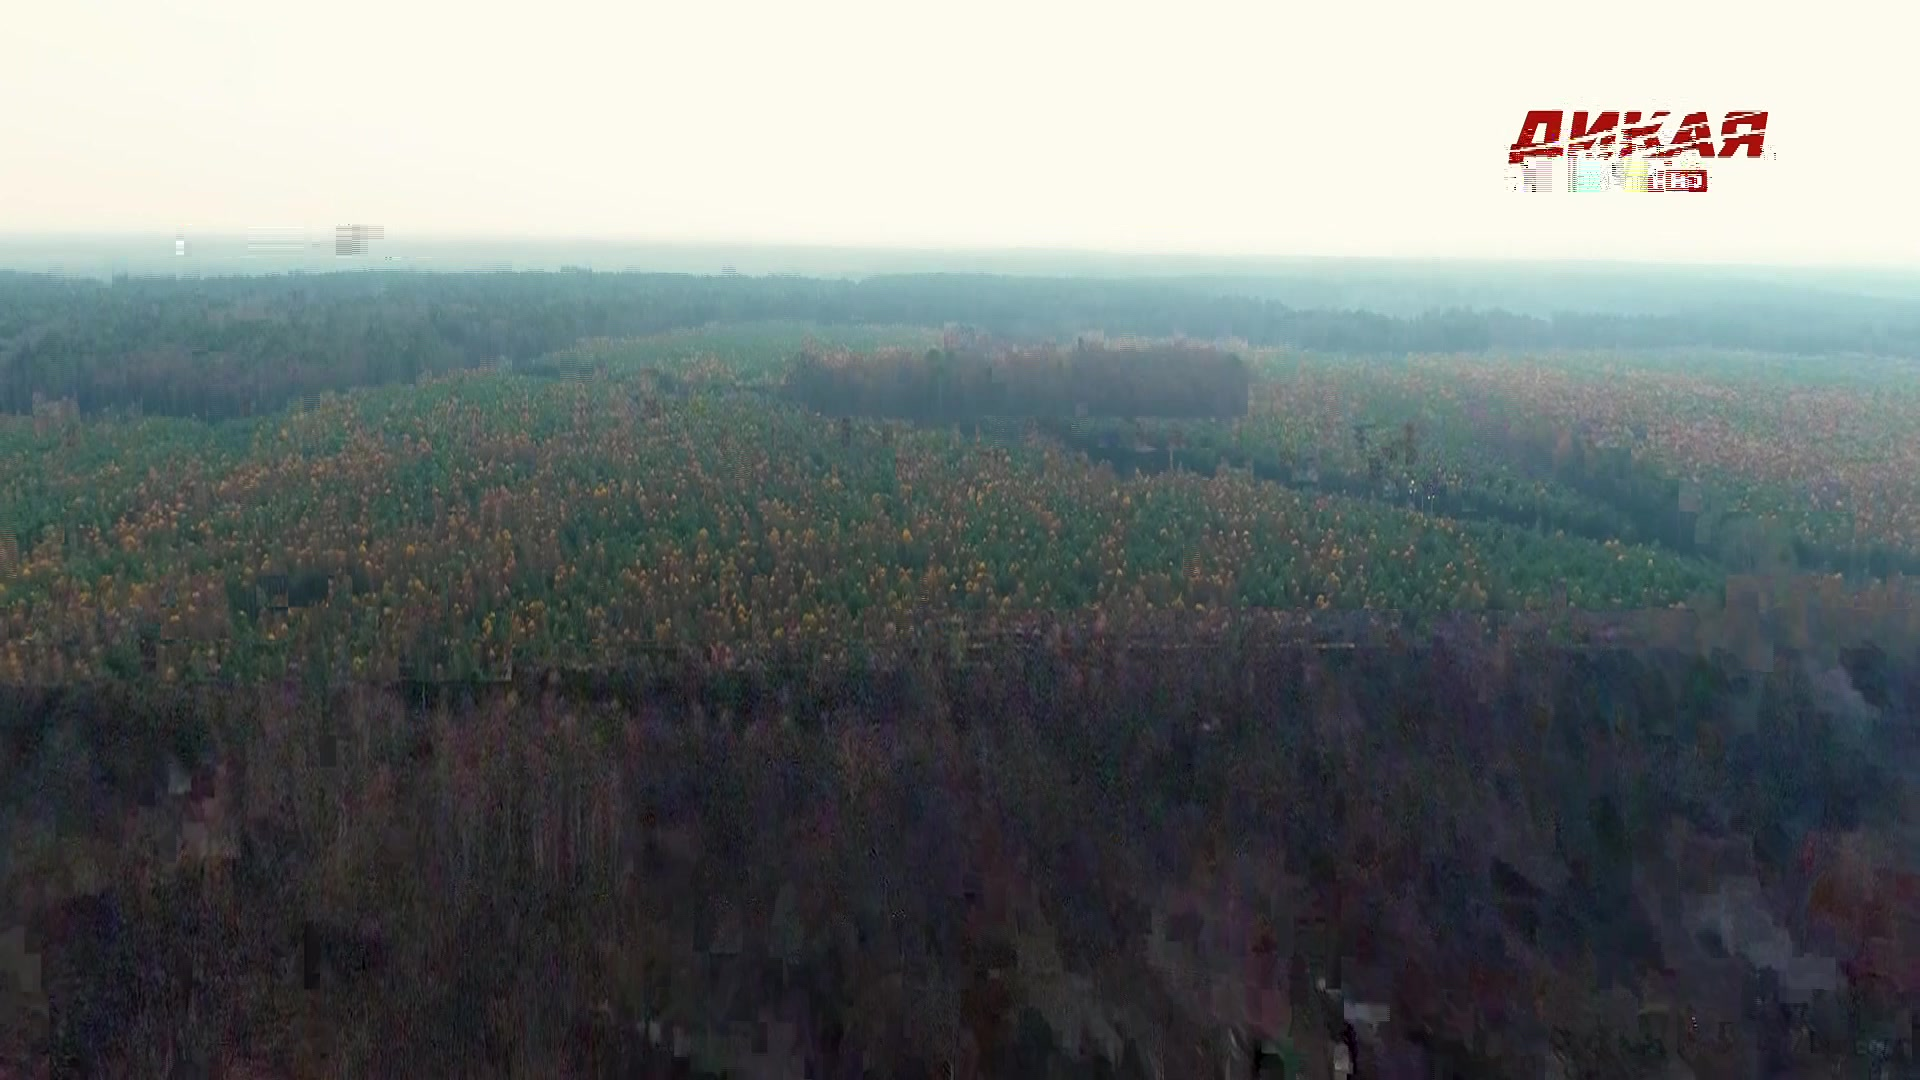Dikaya_Ohota_HD: (1503, 104, 1775, 196)
